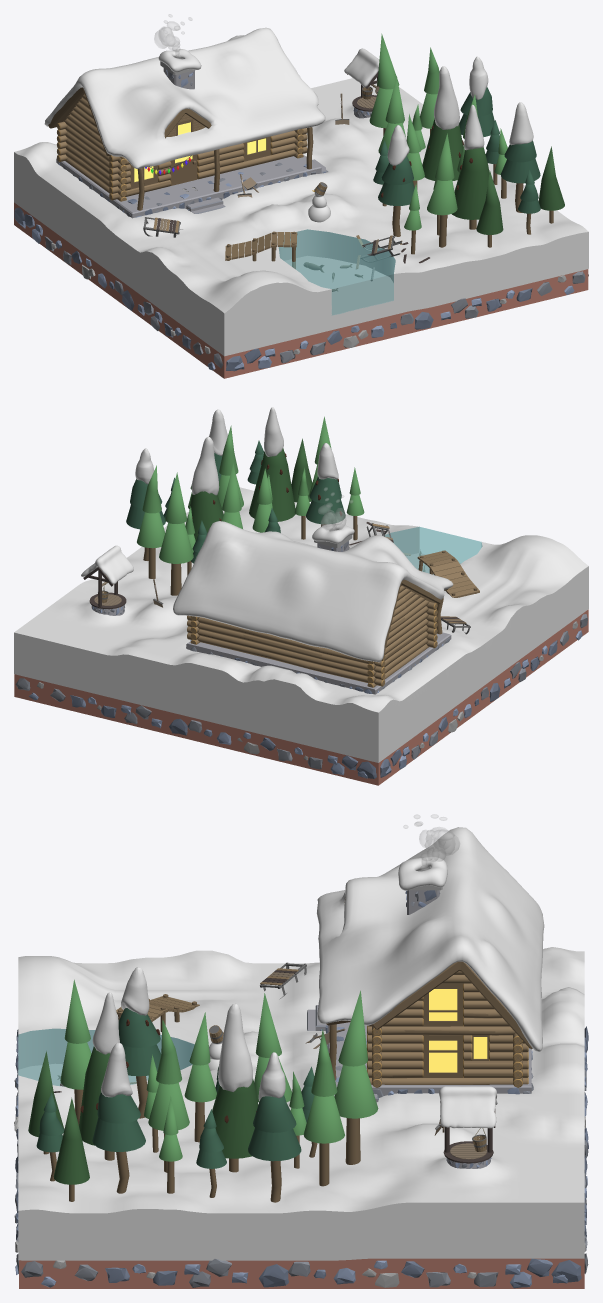
The model's file is WinterHouse.fbx.
3 renders of one model, top to bottom at view 1: azimuth 30°, elevation 25°; view 2: azimuth 150°, elevation 25°; view 3: azimuth 270°, elevation 25°, orthographic. The views are drawn at different scales.
Visible parts, largest first — view 1: polySurface472, Snow1, polySurface327, Walls, Ice, pCube64, Trees:pCone13polySurface328, Trees:pCone23polySurface330, polySurface521, polySurface369, polySurface335, polySurface517 (+18 smaller); view 2: polySurface472, Snow1, polySurface327, Walls, pCube64, Ice, Trees:pCone13polySurface328, polySurface521, polySurface334, Trees:pCone23polySurface330, polySurface517, polySurface343 (+10 smaller); view 3: polySurface472, Snow1, polySurface327, Walls, Ice, Trees:pCone23polySurface330, polySurface517, polySurface521, polySurface334, pCube2, polySurface335, Trees:pCone13polySurface328 (+27 smaller).
Boxes of the visible parts, left/top/right/bottom form: polySurface472: left=14, top=77, right=588, bottom=356; Snow1: left=44, top=27, right=325, bottom=168; polySurface327: left=14, top=202, right=588, bottom=378; Walls: left=57, top=94, right=307, bottom=201; Ice: left=279, top=229, right=395, bottom=315; pCube64: left=56, top=154, right=321, bottom=218; Trees:pCone13polySurface328: left=452, top=147, right=489, bottom=219; Trees:pCone23polySurface330: left=422, top=118, right=463, bottom=180; polySurface521: left=434, top=66, right=459, bottom=129; polySurface369: left=476, top=170, right=503, bottom=234; polySurface335: left=538, top=146, right=564, bottom=210; polySurface517: left=344, top=48, right=397, bottom=87; polySurface472: left=14, top=487, right=588, bottom=762; Snow1: left=173, top=521, right=453, bottom=662; polySurface327: left=14, top=609, right=588, bottom=785; Walls: left=187, top=585, right=437, bottom=687; pCube64: left=186, top=632, right=451, bottom=694; Ice: left=385, top=526, right=482, bottom=574; Trees:pCone13polySurface328: left=249, top=448, right=295, bottom=521; polySurface521: left=191, top=436, right=219, bottom=495; polySurface334: left=159, top=523, right=193, bottom=563; Trees:pCone23polySurface330: left=189, top=491, right=223, bottom=540; polySurface517: left=81, top=545, right=133, bottom=583; polySurface343: left=137, top=512, right=165, bottom=548; polySurface472: left=18, top=947, right=584, bottom=1260; Snow1: left=316, top=827, right=544, bottom=1051; polySurface327: left=19, top=1258, right=584, bottom=1288; Walls: left=367, top=971, right=528, bottom=1087; Ice: left=18, top=1029, right=194, bottom=1085; Trees:pCone23polySurface330: left=212, top=1079, right=258, bottom=1158; polySurface517: left=439, top=1086, right=497, bottom=1128; polySurface521: left=218, top=1003, right=252, bottom=1091; polySurface334: left=334, top=1064, right=378, bottom=1118; pCube2: left=372, top=961, right=532, bottom=1048; polySurface335: left=53, top=1097, right=89, bottom=1184; Trees:pCone13polySurface328: left=79, top=1046, right=110, bottom=1145.
Size of the model in its own units: 27.28 by 15.8 by 27.19.
